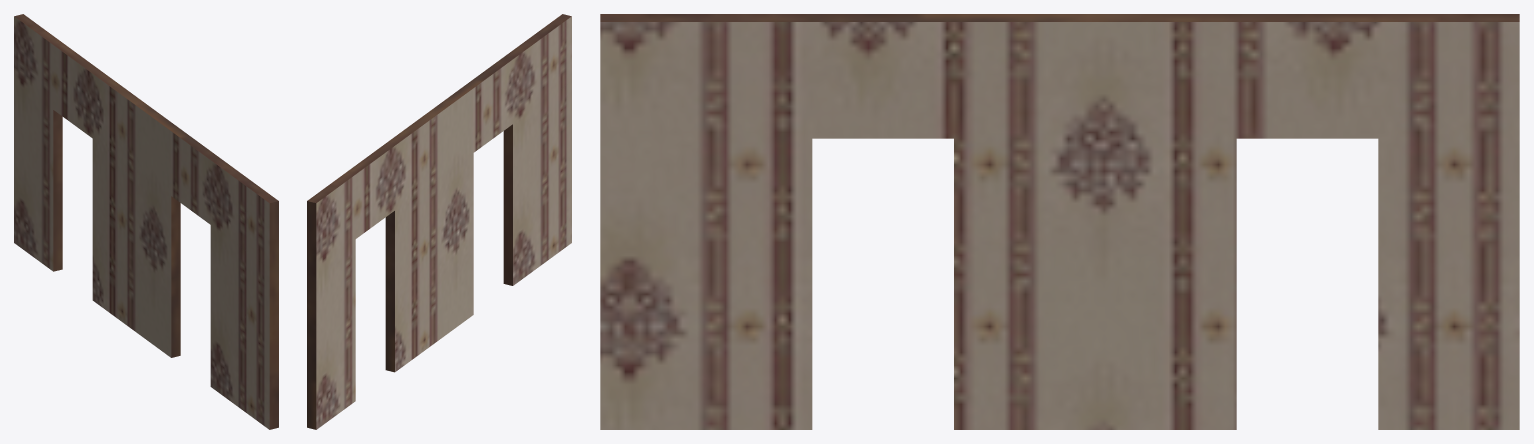
Rendered from 0_wall_2_woqr.dae.
3 renders of one model, left to right at view 1: azimuth 30°, elevation 25°; view 2: azimuth 150°, elevation 25°; view 3: azimuth 270°, elevation 25°, orthographic. The views are drawn at different scales.
Visible parts, largest first — view 1: Plane.007; view 2: Plane.007; view 3: Plane.007.
Boxes of the visible parts, <box> form: Plane.007: <box>14,14,278,429</box>; Plane.007: <box>307,14,571,429</box>; Plane.007: <box>600,14,1519,429</box>.
Bounding box in the file's own units: 0.15 × 7.15 × 3.5.
Materials: 1 (1 with a texture image).
